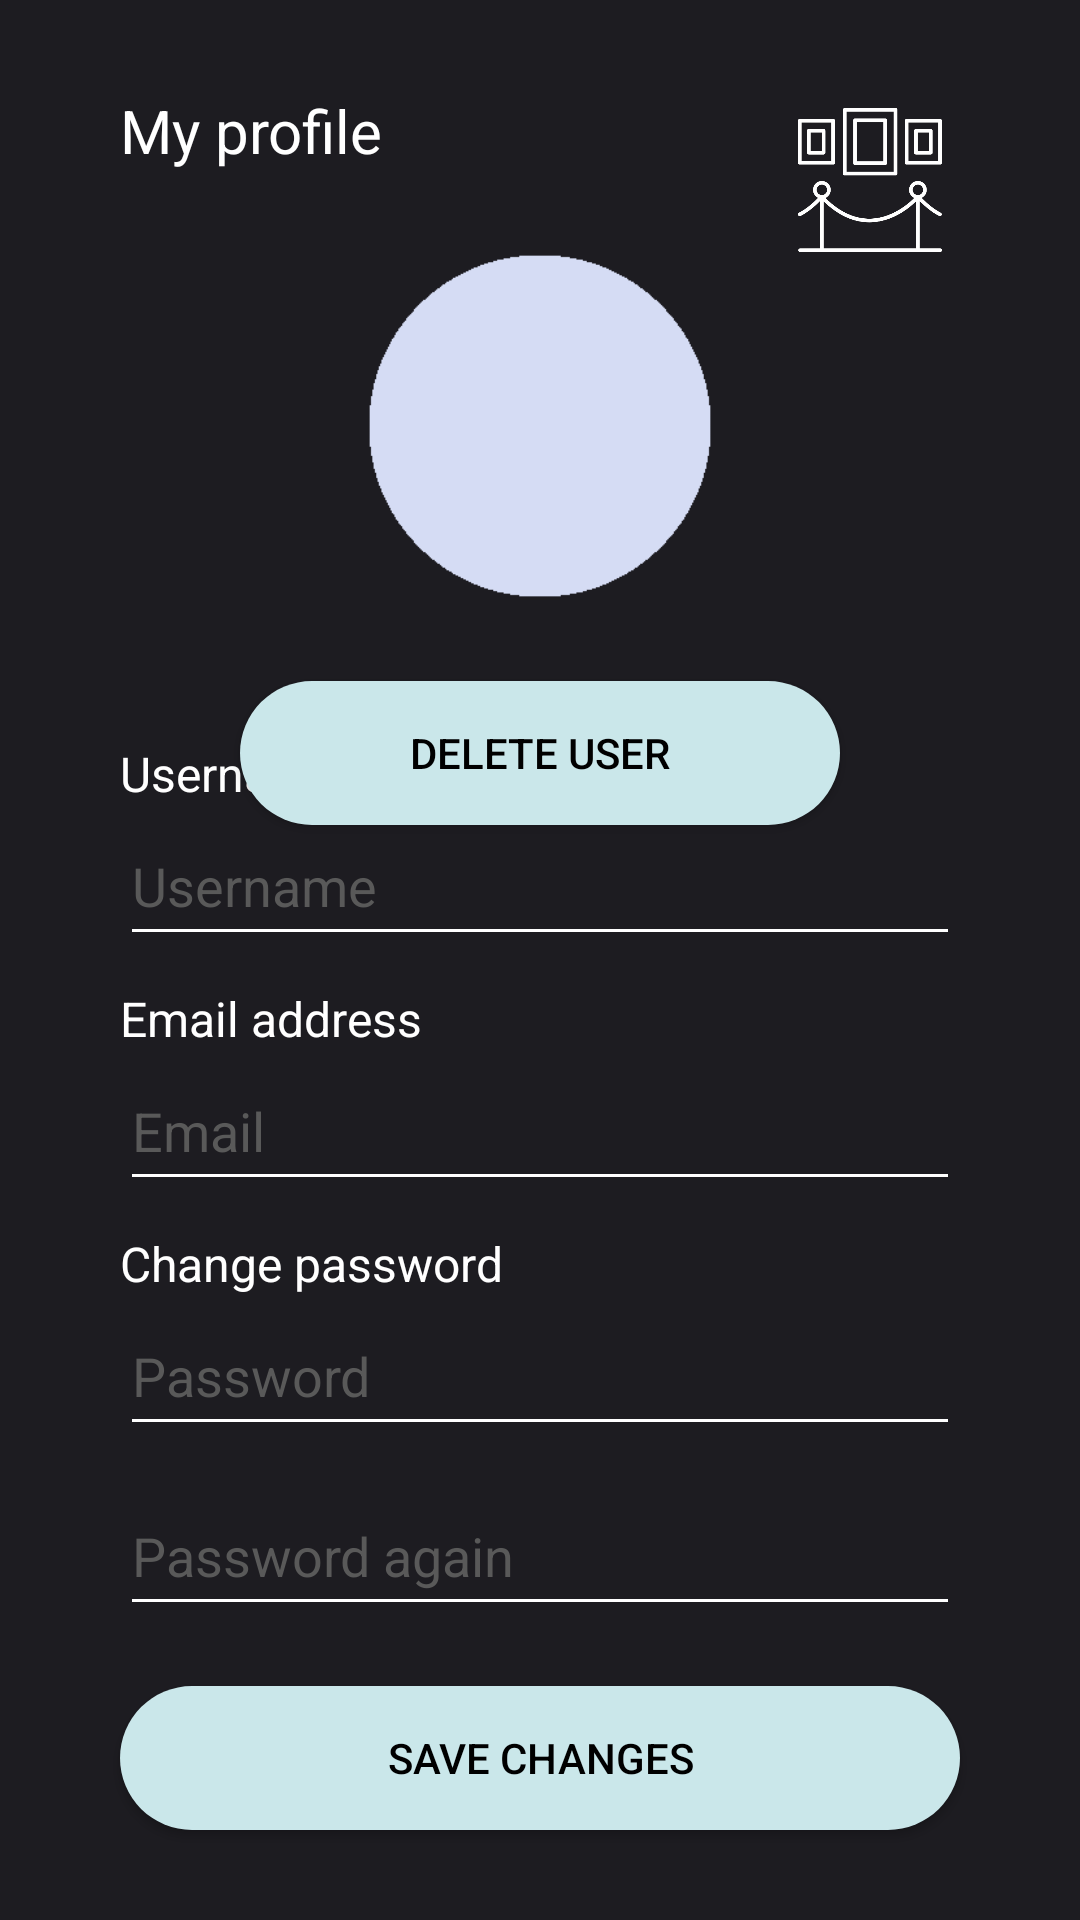

Icon bounding boxes for this 1080 x 1920 phone screenshot, format [x1,y1,x2,y2]:
art gallery: [798,108,942,252]
